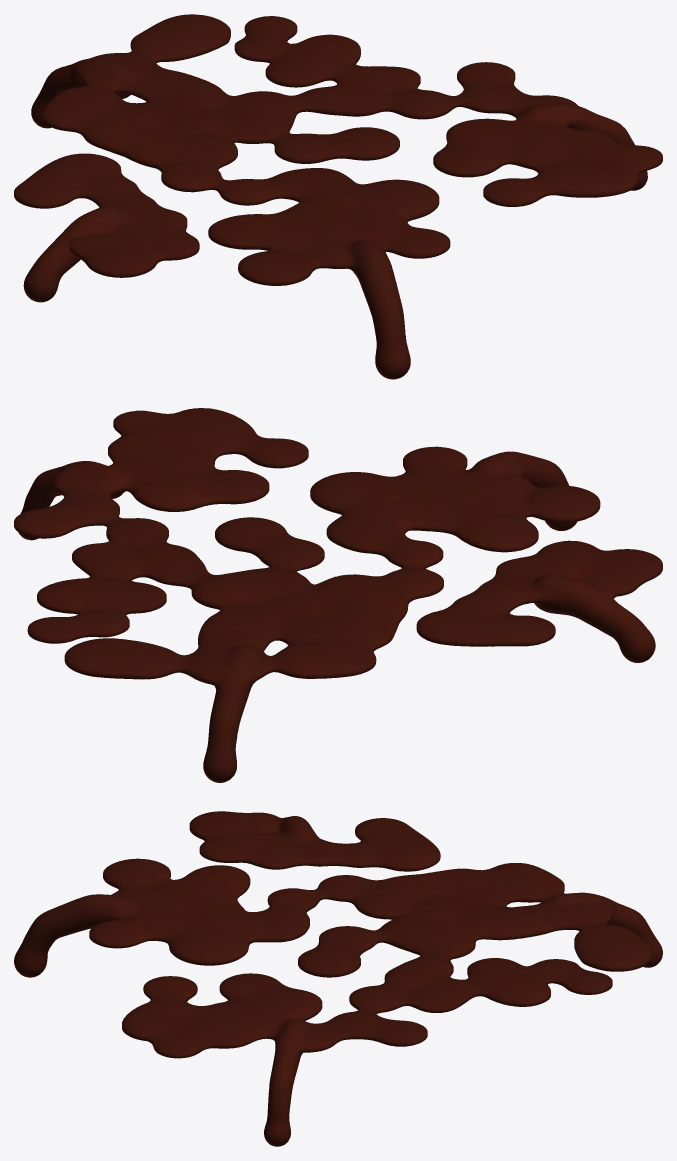
File: sauce_bbq.glb
The picture shows the model from 3 angles, top to bottom: view 1: azimuth 30°, elevation 25°; view 2: azimuth 150°, elevation 25°; view 3: azimuth 270°, elevation 25°; orthographic projection. The views are drawn at different scales.
Parts seen in each view (by area): view 1: sauce_bbq_web; view 2: sauce_bbq_web; view 3: sauce_bbq_web.
Boxes of the visible parts, x1,y1,x2,y2 form: sauce_bbq_web: (14,14,662,379); sauce_bbq_web: (14,408,662,782); sauce_bbq_web: (14,811,662,1146).
Size of the model in its own units: 0.1227 by 0.0187 by 0.1223.
1 material, 1 textured.
